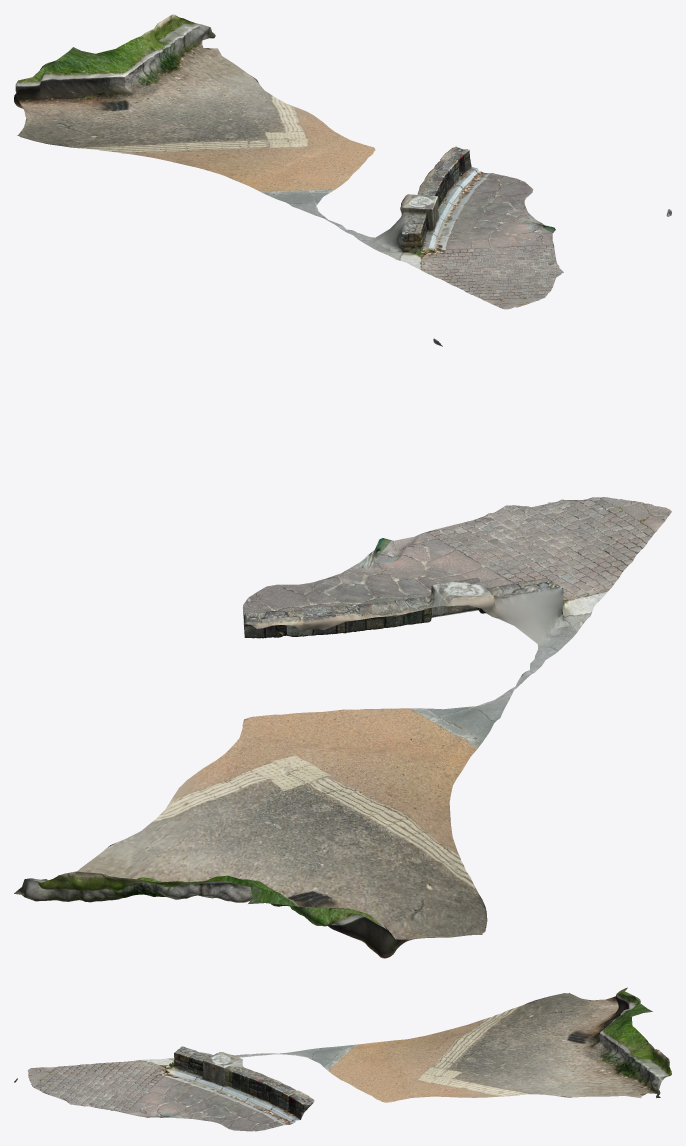
3 views of the same model, one above another, from view 1: azimuth 30°, elevation 25°; view 2: azimuth 150°, elevation 25°; view 3: azimuth 270°, elevation 25° (orthographic). The views are drawn at different scales.
Parts seen in each view (by area): view 1: baked_mesh_5686dd38; view 2: baked_mesh_5686dd38; view 3: baked_mesh_5686dd38.
Part boxes in pixels (x1=…): baked_mesh_5686dd38: x1=14, y1=14, x2=671, y2=309; baked_mesh_5686dd38: x1=14, y1=338, x2=671, y2=958; baked_mesh_5686dd38: x1=14, y1=987, x2=671, y2=1131.
Bounding box in the file's own units: 0.939 × 0.189 × 1.76.
Materials: 1 (1 with a texture image).
